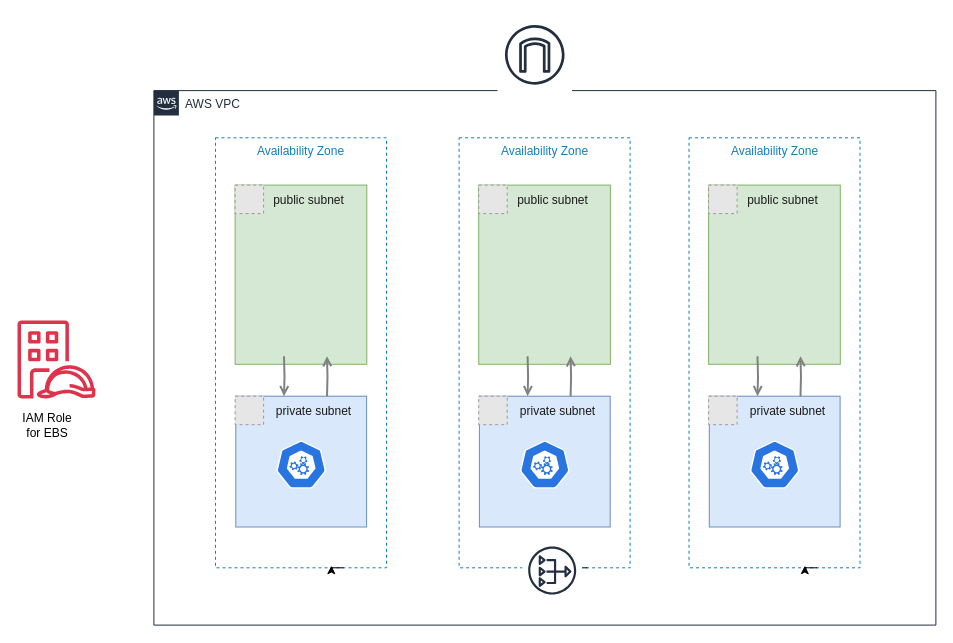
Some shapes in this 953 by 643 pixel diagram are drawn without their labels. Grey dashed boxes stand in for pictures. Each missing label, with the centre of its shape:
"Internet gateway" belongs at pixel 534 54.
"NAT gateway" belongs at pixel 551 570.
